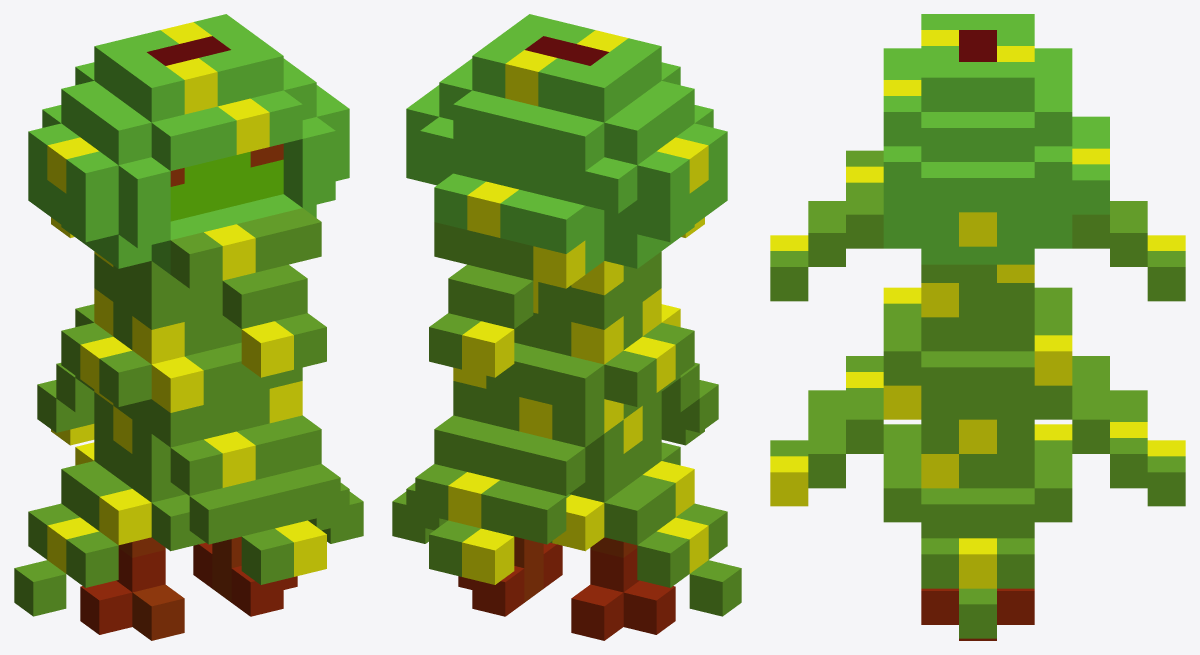
File: Jeronimo_Vargas_Hoyos_fase_1.obj
3 renders of one model, left to right at view 1: azimuth 30°, elevation 25°; view 2: azimuth 150°, elevation 25°; view 3: azimuth 270°, elevation 25°, orthographic.
Visible parts, largest first — view 1: Jeronimo_Vargas_Hoyos_fase_1; view 2: Jeronimo_Vargas_Hoyos_fase_1; view 3: Jeronimo_Vargas_Hoyos_fase_1.
Boxes of the visible parts, <box> form: Jeronimo_Vargas_Hoyos_fase_1: <box>14,14,363,640</box>; Jeronimo_Vargas_Hoyos_fase_1: <box>392,14,741,640</box>; Jeronimo_Vargas_Hoyos_fase_1: <box>770,14,1185,640</box>.
Size of the model in its own units: 10 by 16 by 11.
1 material, 1 textured.
